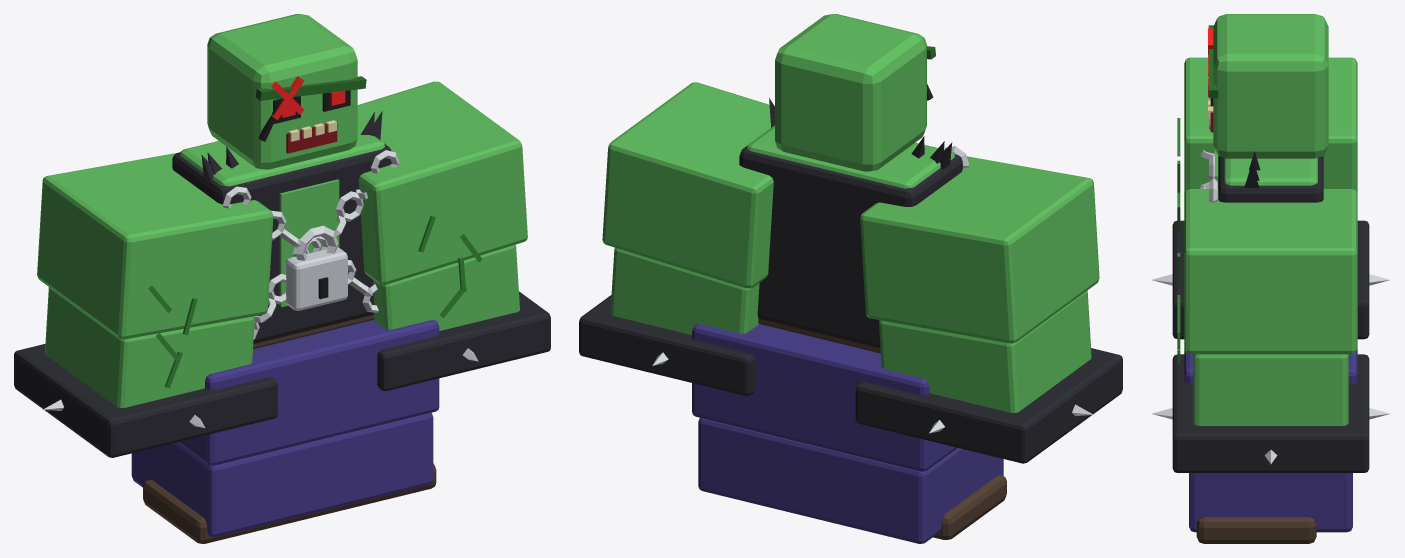
The model's file is jefe_brute.glb.
The picture shows the model from 3 angles, left to right: view 1: azimuth 30°, elevation 25°; view 2: azimuth 150°, elevation 25°; view 3: azimuth 270°, elevation 25°; orthographic projection.
Parts seen in each view (by area): view 1: LeftArm, RightArm, Torso, LeftLeg, RightLeg, Head; view 2: LeftArm, RightArm, LeftLeg, Torso, Head, RightLeg; view 3: RightArm, Head, RightLeg, LeftArm, Torso.
Part boxes in pixels (x1,y1,x2,y2): LeftArm: [14, 152, 277, 457]; RightArm: [357, 81, 550, 391]; Torso: [172, 111, 399, 349]; LeftLeg: [131, 343, 353, 543]; RightLeg: [278, 320, 439, 514]; Head: [207, 14, 366, 169]; LeftArm: [855, 156, 1122, 463]; RightArm: [579, 82, 773, 395]; LeftLeg: [778, 347, 1006, 543]; Torso: [739, 98, 969, 353]; Head: [775, 14, 935, 171]; RightLeg: [692, 324, 854, 521]; RightArm: [1151, 189, 1390, 472]; Head: [1208, 14, 1328, 158]; RightLeg: [1184, 349, 1357, 543]; LeftArm: [1151, 57, 1390, 339]; Torso: [1200, 119, 1323, 202].
Bounding box in the file's own units: 13.92 × 12.53 × 6.
1 material, 1 textured.
